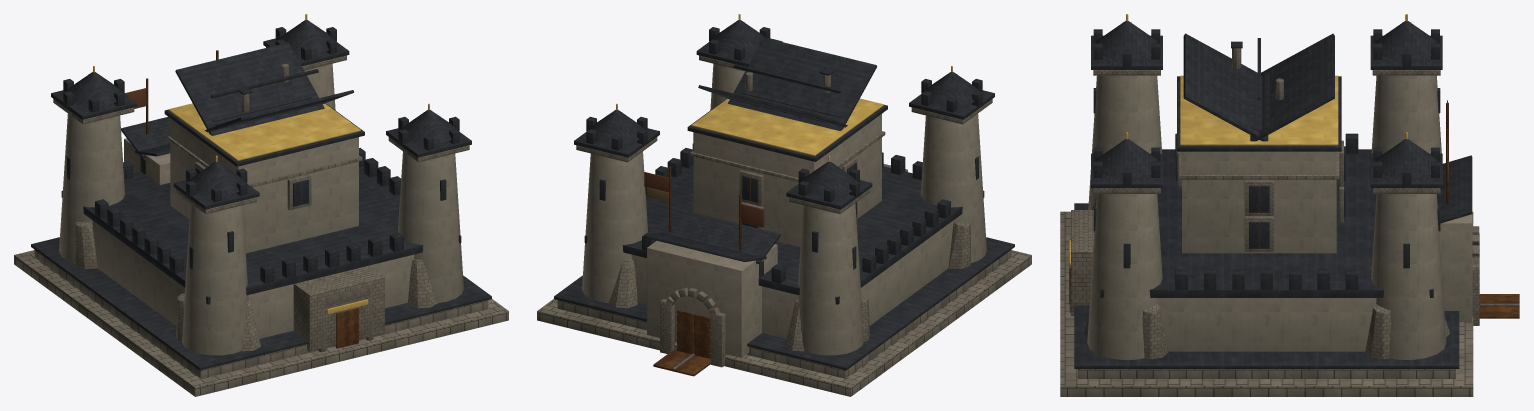
Rendered from building_royal_citadel.fbx.
3 renders of one model, left to right at view 1: azimuth 30°, elevation 25°; view 2: azimuth 150°, elevation 25°; view 3: azimuth 270°, elevation 25°, orthographic. The views are drawn at different scales.
Parts seen in each view (by area): view 1: building_royal_citadel; view 2: building_royal_citadel; view 3: building_royal_citadel.
Boxes of the visible parts, x1,y1,x2,y2 form: building_royal_citadel: (14, 14, 508, 396); building_royal_citadel: (537, 14, 1031, 396); building_royal_citadel: (1060, 14, 1519, 396).
Bounding box in the file's own units: 19.2 × 12.8 × 21.35.
